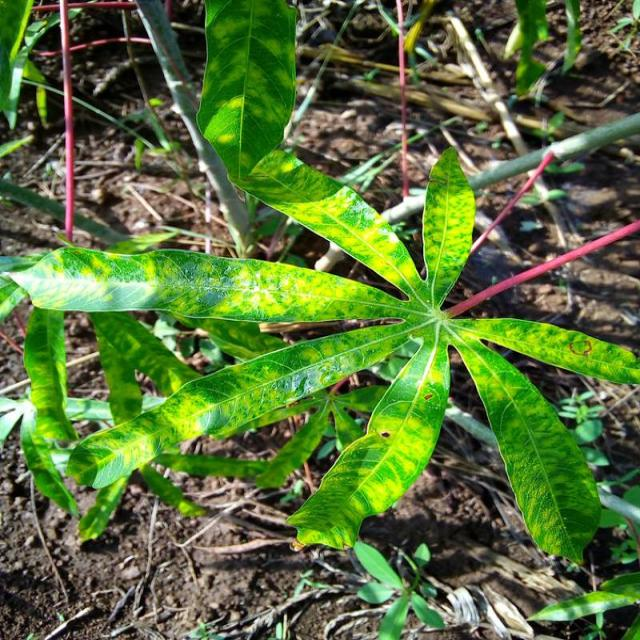cassava leaf: (2, 1, 638, 565)
